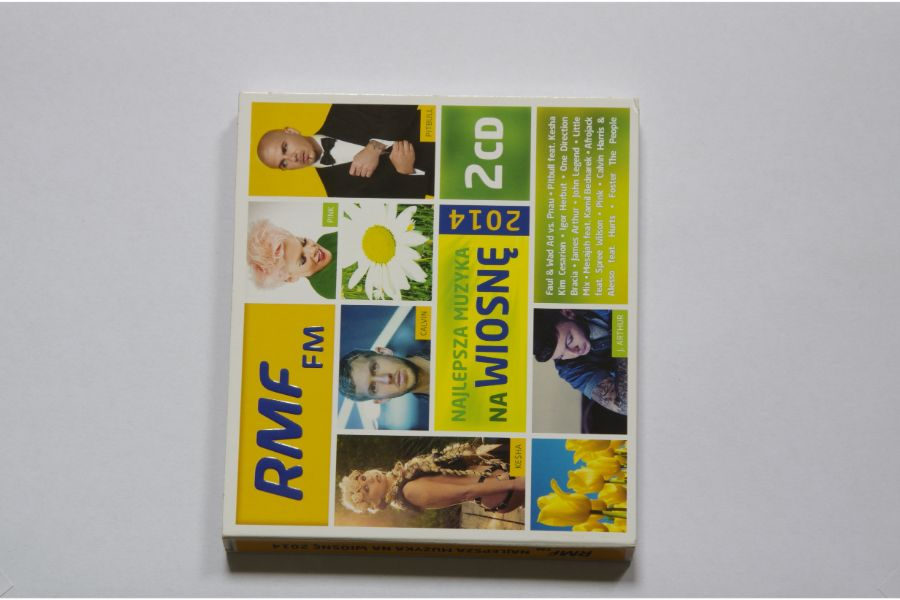album: (222, 93, 637, 562)
